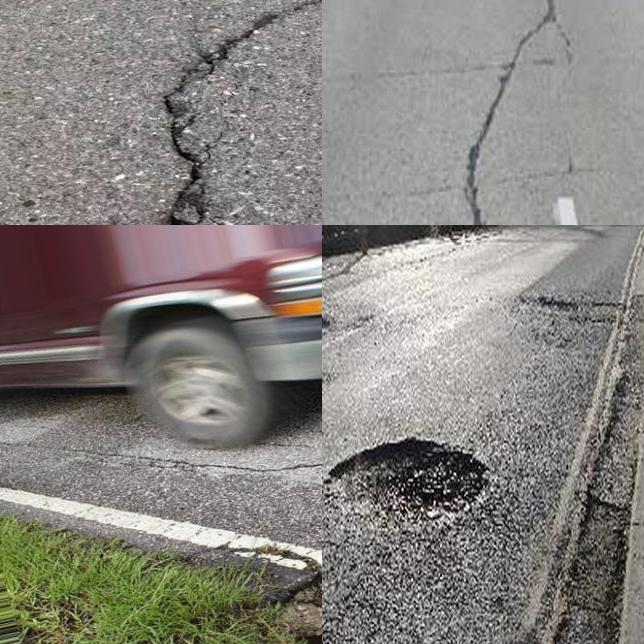Lubang: (325, 435, 488, 522)
Memanjang: (141, 0, 322, 225), (444, 0, 575, 225)
Pinggir: (151, 521, 322, 644)
